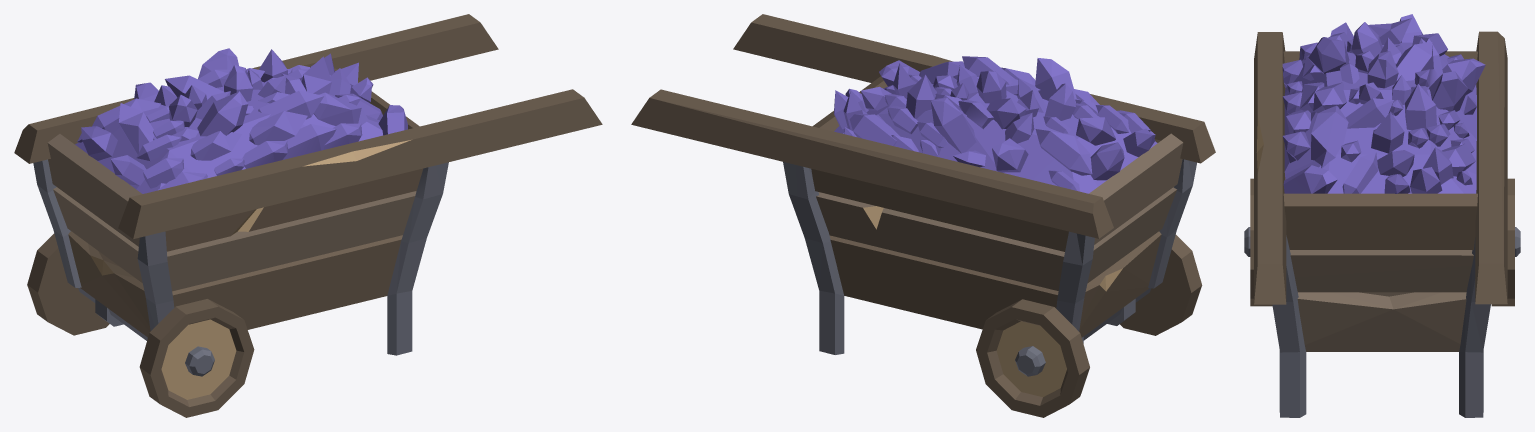
The model's file is _wheelbarrow_diamonds.fbx.
The picture shows the model from 3 angles, left to right: view 1: azimuth 30°, elevation 25°; view 2: azimuth 150°, elevation 25°; view 3: azimuth 270°, elevation 25°; orthographic projection. The views are drawn at different scales.
Visible parts, largest first — view 1: wheel_barrow_diamonds; view 2: wheel_barrow_diamonds; view 3: wheel_barrow_diamonds.
Boxes of the visible parts, x1,y1,x2,y2 form: wheel_barrow_diamonds: (14,14,602,417); wheel_barrow_diamonds: (631,14,1215,417); wheel_barrow_diamonds: (1244,14,1520,417).
Bounding box in the file's own units: 187 × 106 × 88.67.
